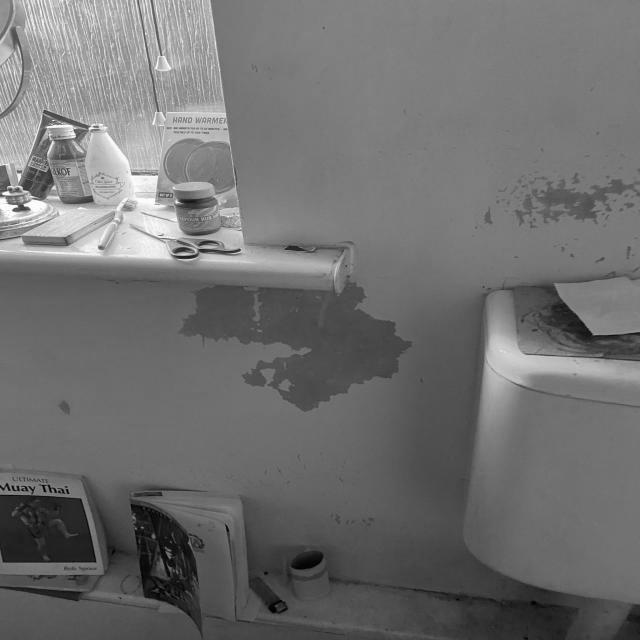peeling paint: (158, 278, 426, 442), (453, 135, 640, 273), (51, 382, 84, 428)
